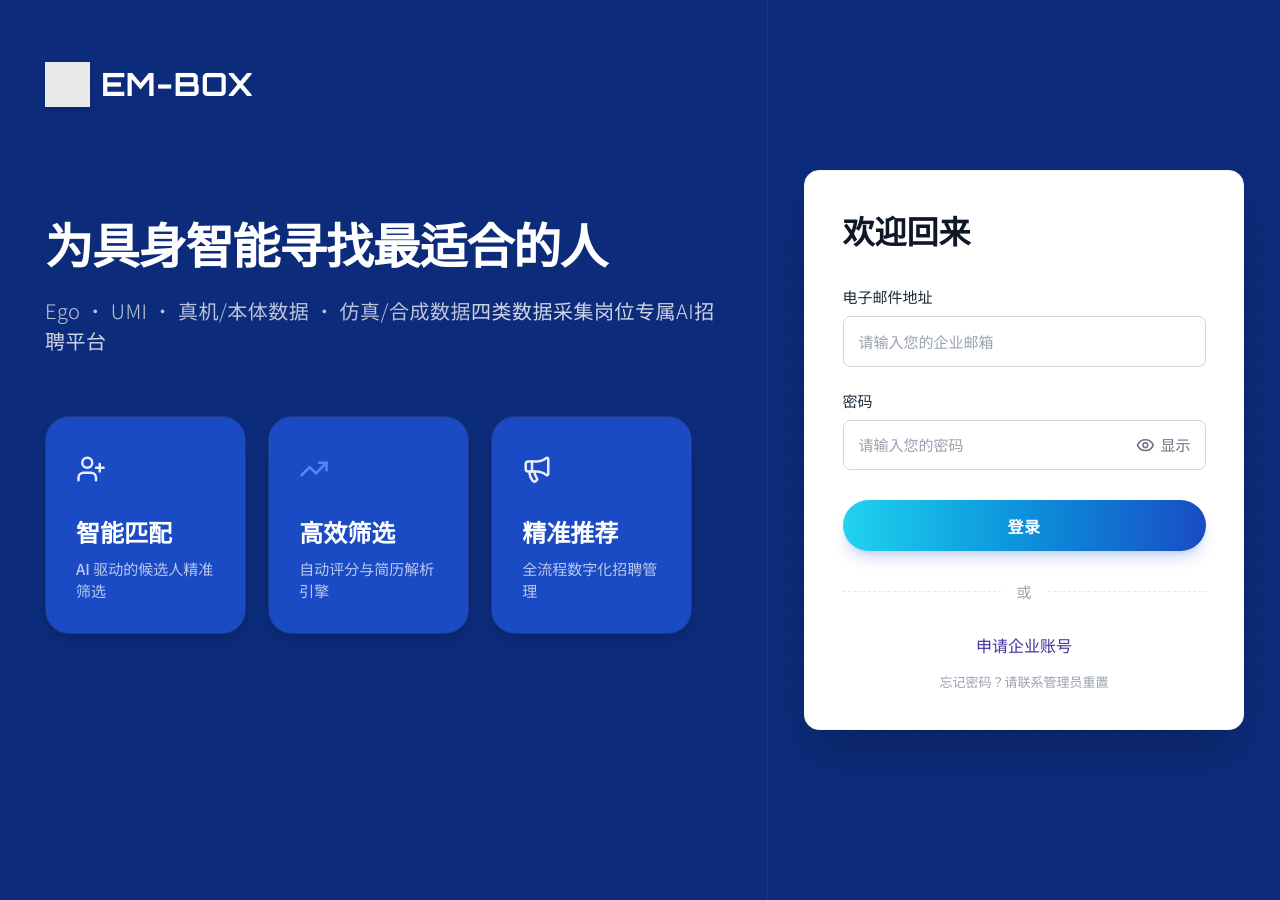
LoginPage › opens and closes apply dialog
The width and height of the screenshot is (1280, 900).
Click the button "申请企业账号".
click(1024, 645)  # box [976, 633, 1072, 657]
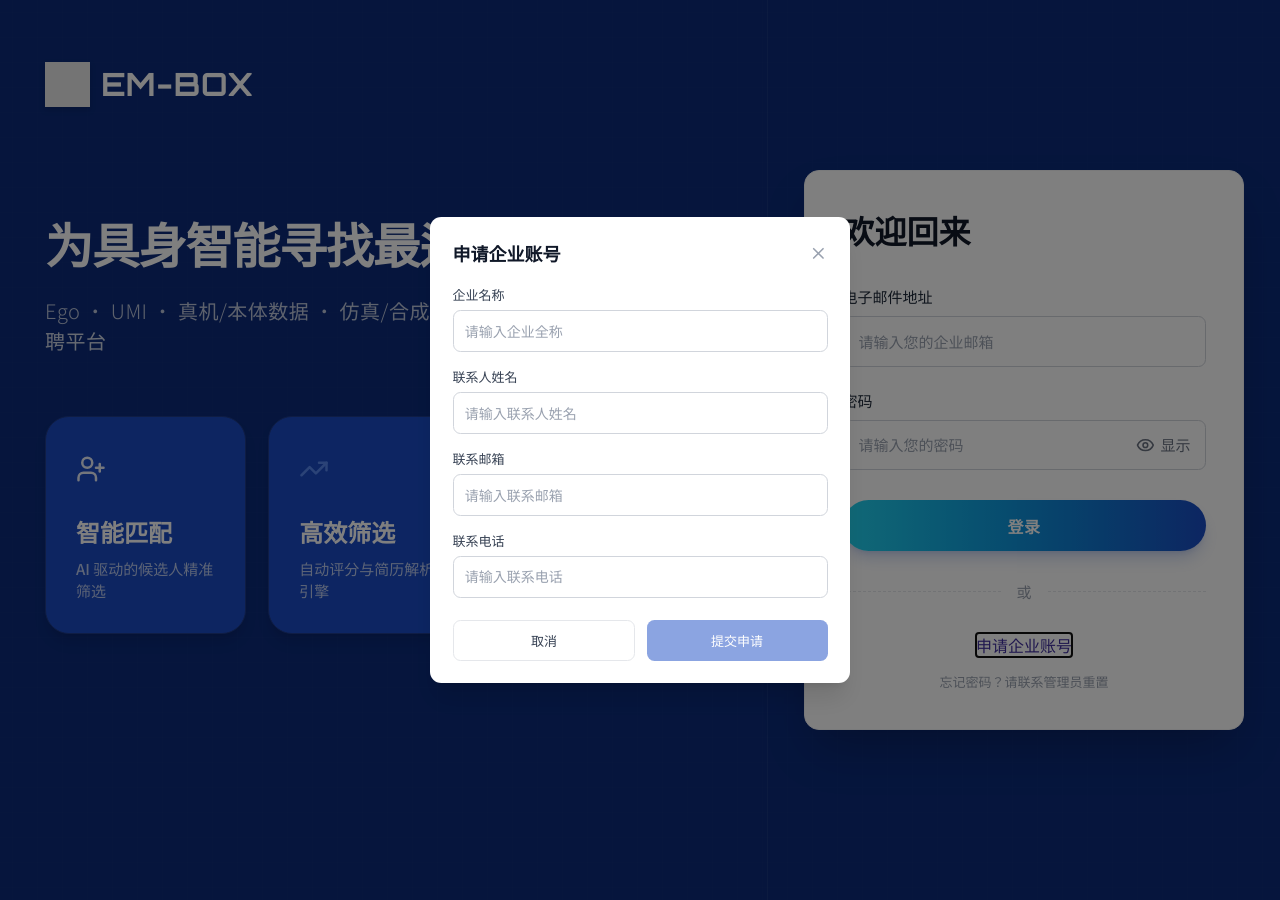
Expected: the text "企业名称" is shown, [452, 285, 504, 304]
Click the button "取消".
click(544, 640)  # box [452, 620, 635, 661]
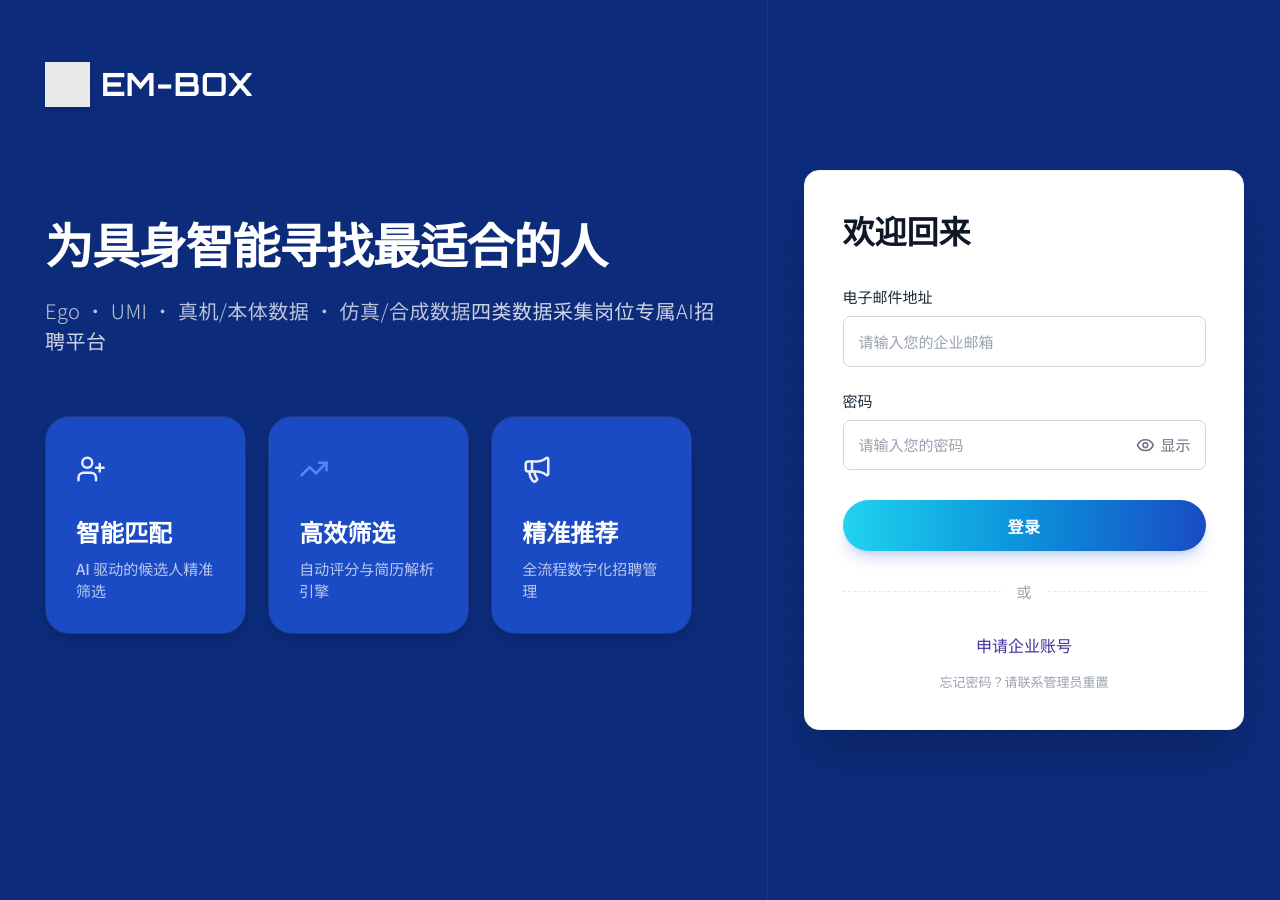
Expected: the text "企业名称" is gone
